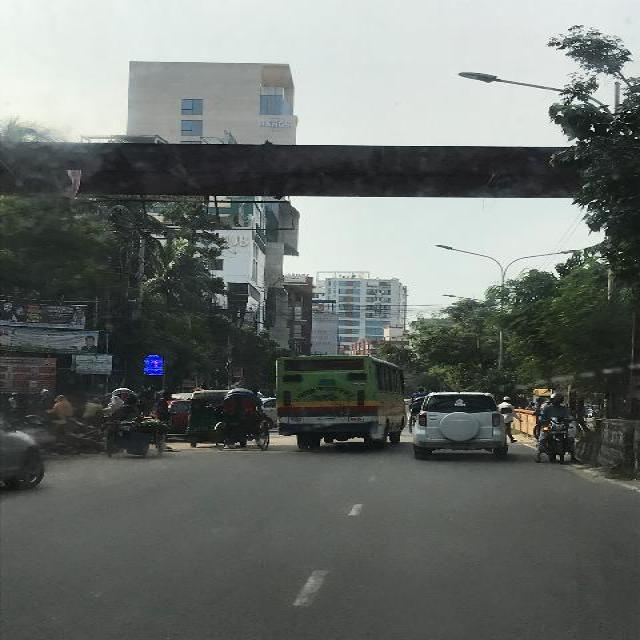bus: (272, 354, 405, 450)
motorbike: (534, 413, 582, 465)
rickshaw: (217, 388, 271, 448), (14, 390, 53, 426)
suv: (412, 390, 504, 460)
three wheelers -CNG-: (183, 390, 217, 448)
wheelbarrow: (100, 420, 169, 460)
